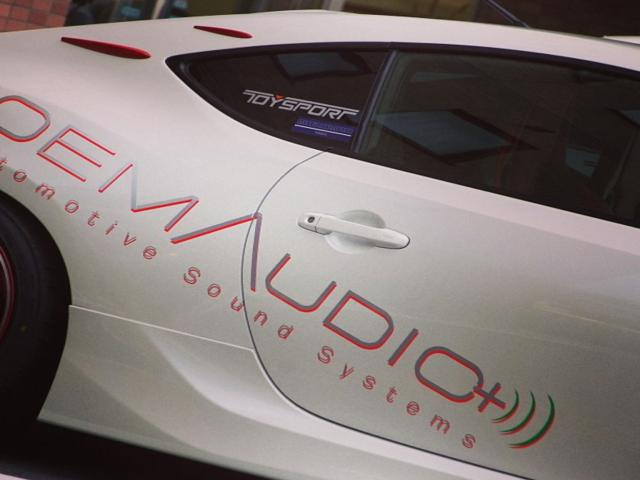Door-handle: (295, 209, 412, 253)
